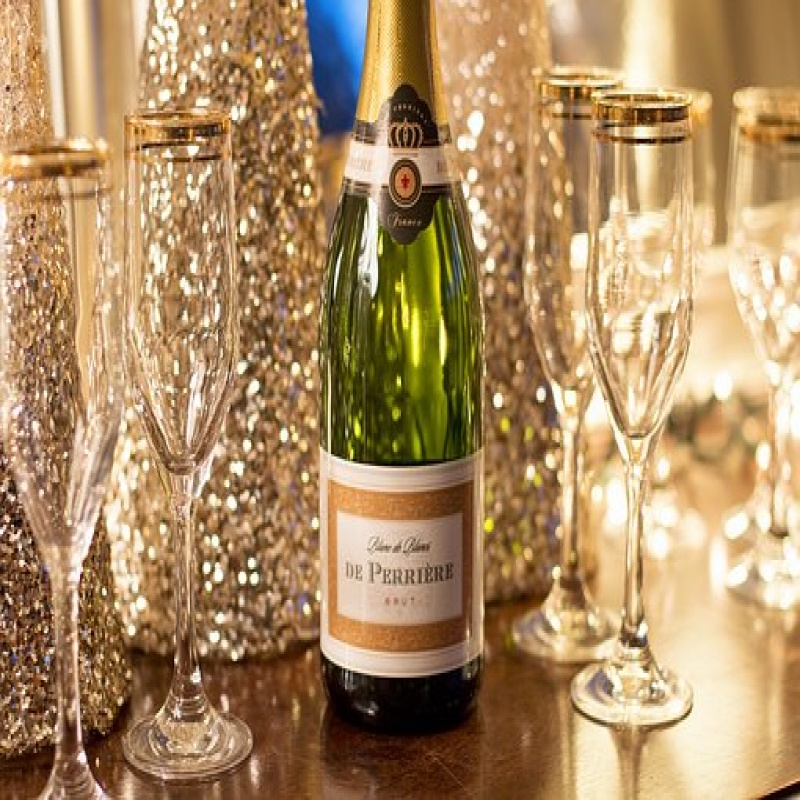wine: (316, 1, 483, 739)
